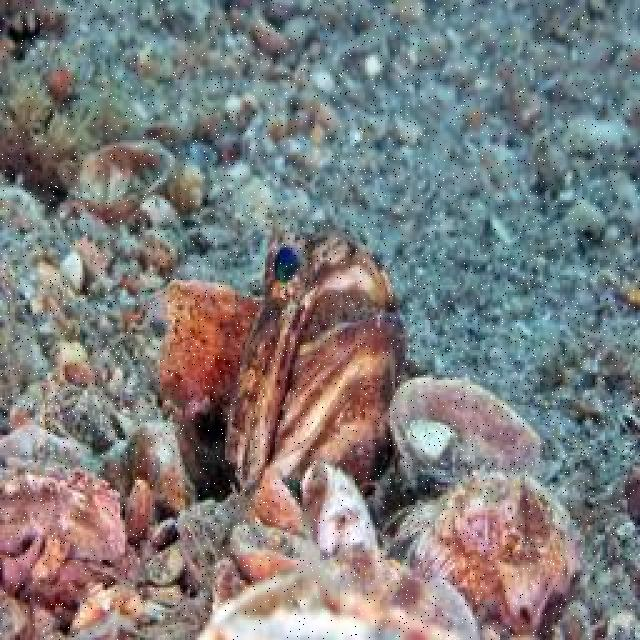fish: (222, 219, 407, 500)
